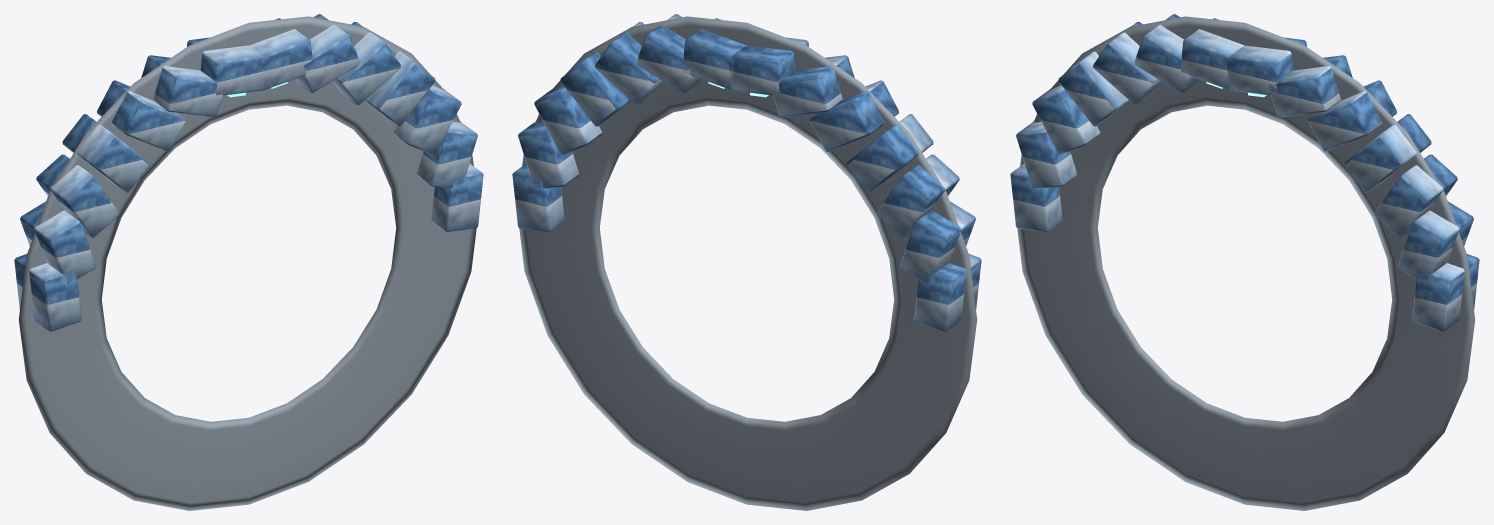
File: prop_sewer_arch.glb
3 renders of one model, left to right at view 1: azimuth 30°, elevation 25°; view 2: azimuth 150°, elevation 25°; view 3: azimuth 330°, elevation 25°, orthographic.
Parts seen in each view (by area): view 1: VaultBlock_0; view 2: VaultBlock_0; view 3: VaultBlock_0.
Boxes of the visible parts, left/top/right/bottom form: VaultBlock_0: left=14, top=14, right=483, bottom=510; VaultBlock_0: left=512, top=14, right=981, bottom=510; VaultBlock_0: left=1010, top=14, right=1479, bottom=510.
Size of the model in its own units: 37.58 by 37.58 by 4.4.
Materials: 3 (1 with a texture image).
